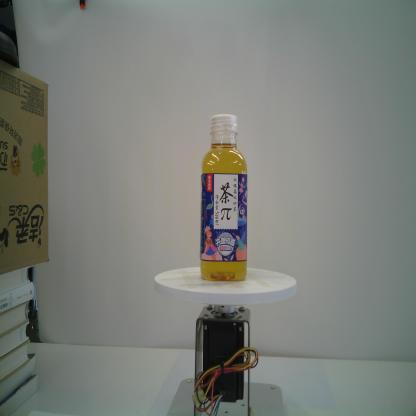Drink: (198, 111, 250, 282)
